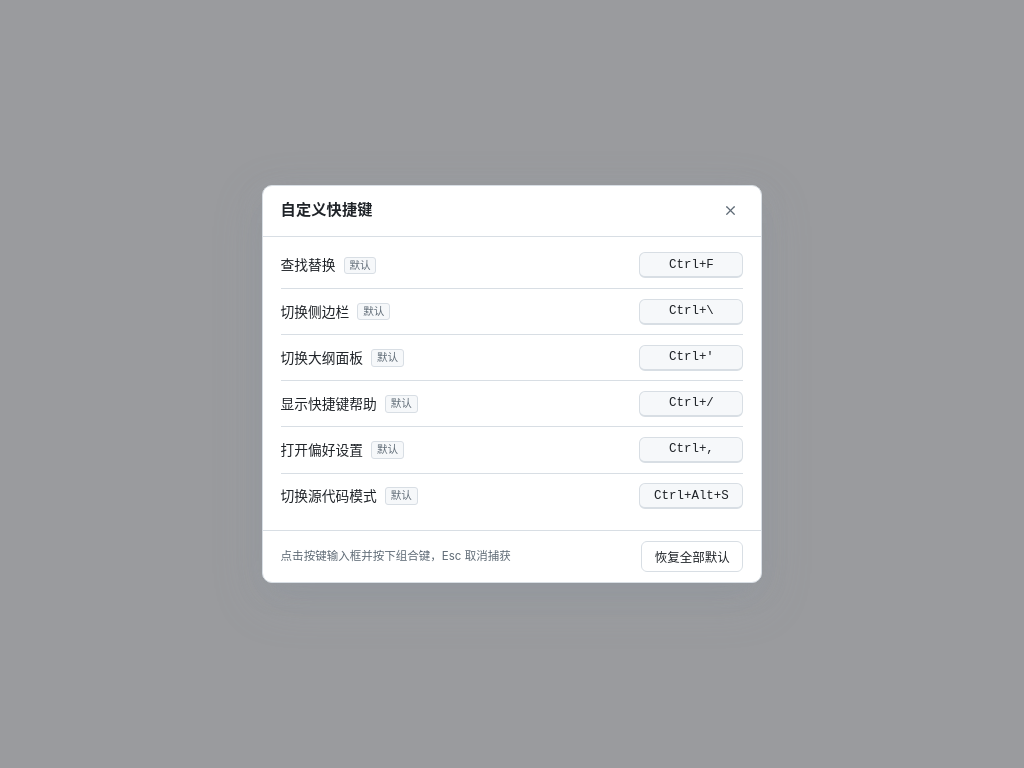
Test: ShortcutsCustomize reserved shortcuts › blocks binding to a source-mode built-in key (mod+z) and displays error
Click the button titled "点击修改": (691, 265) [639, 252, 743, 278]
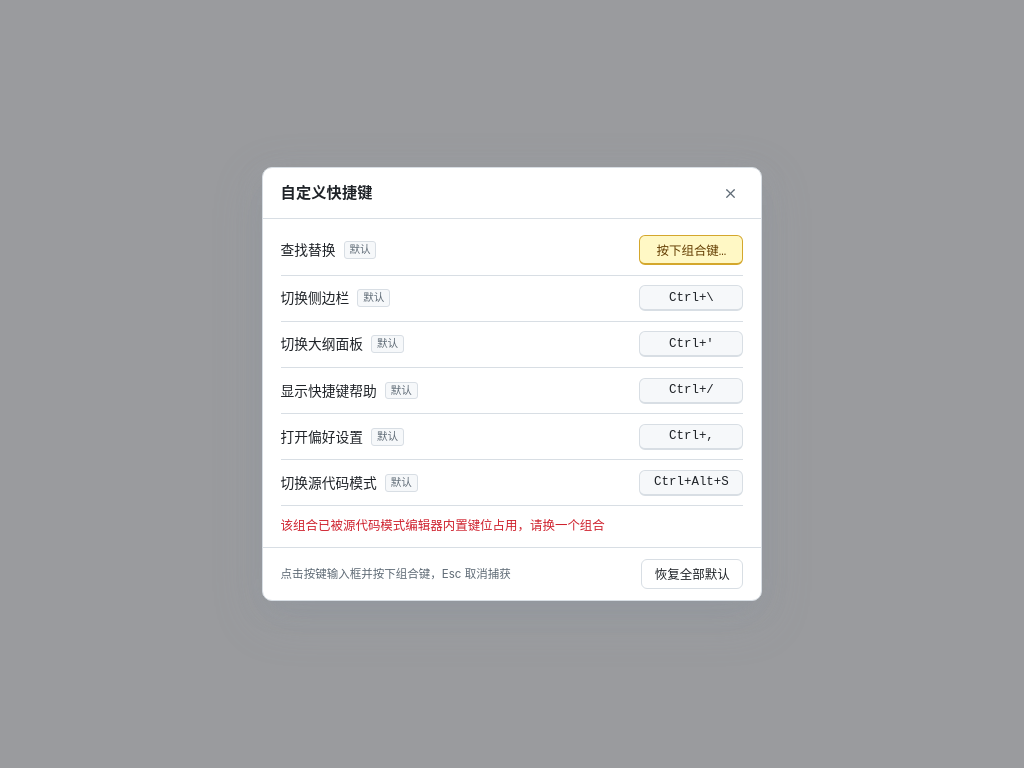
expect the button "按下组合键…" is shown: met, box [639, 235, 743, 265]
expect the text "该组合已被源代码模式编辑器内置键位占用，请换一个组合" is shown: met, box [281, 518, 605, 533]
